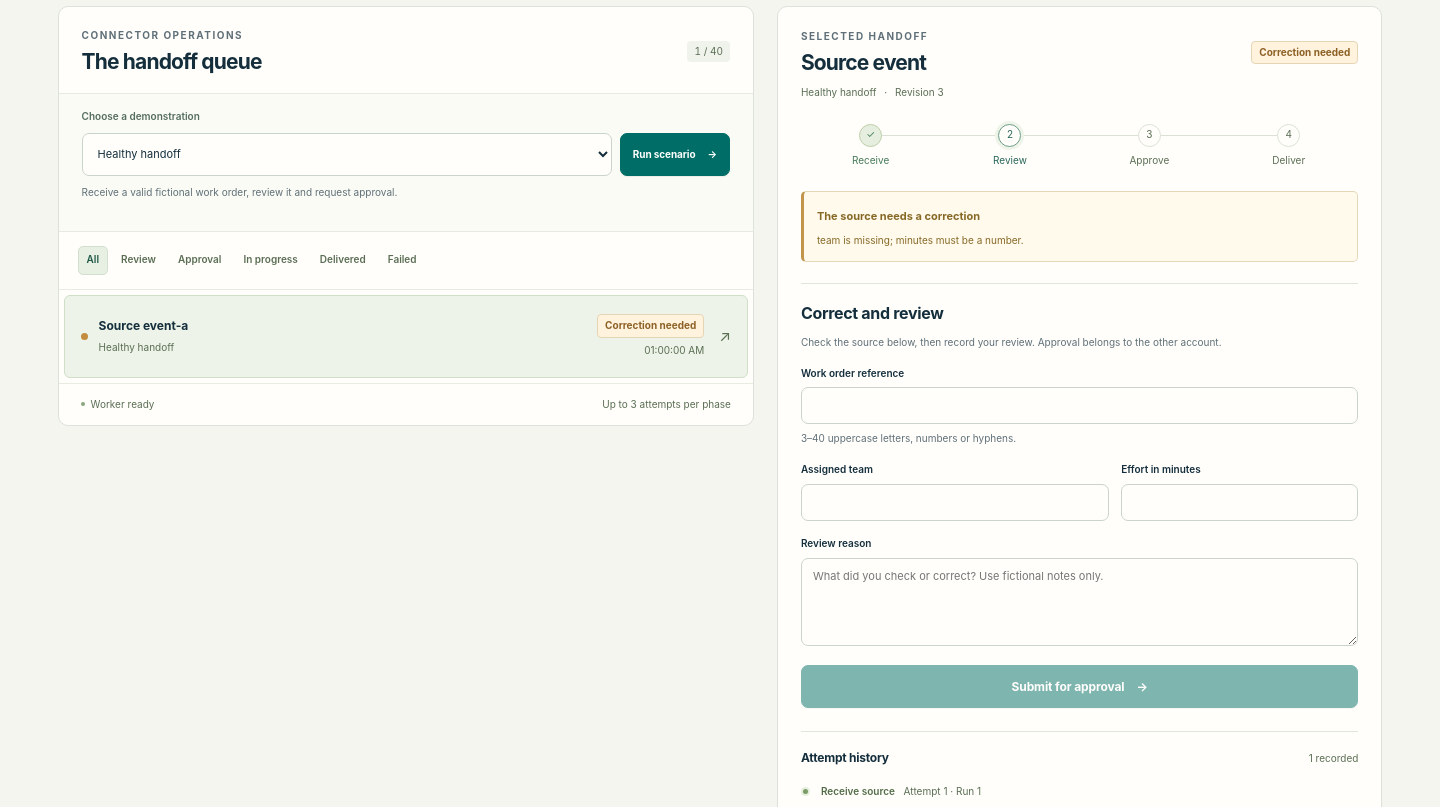
Test: Team edition commands and evidence › submits an explicit review reason with the selected revision and corrected payload
This screenshot has width=1440, height=807.
(page scrolled)
Expected: the text "The source needs a correction" is shown, [817,209,980,223]
Expected: the button "Submit for approval →" is disabled, [801,666,1358,708]
Type "WO-101" into the field labelled "Work order reference".
click(1080, 406); type("WO-101")  # box [801,387,1358,424]
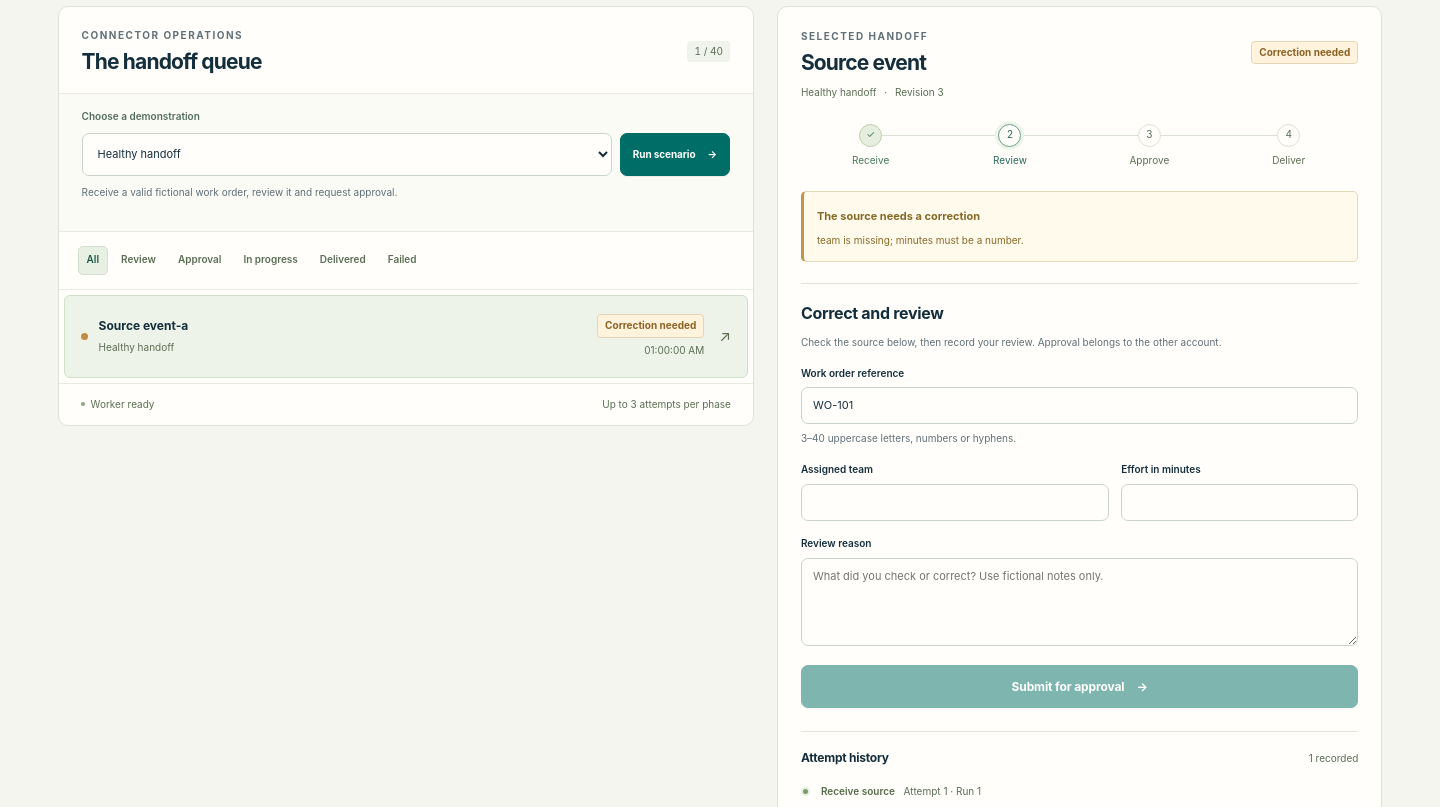
Type "Fictional repairs" into the field labelled "Assigned team".
click(955, 503); type("Fictional repairs")  # box [801,484,1109,521]
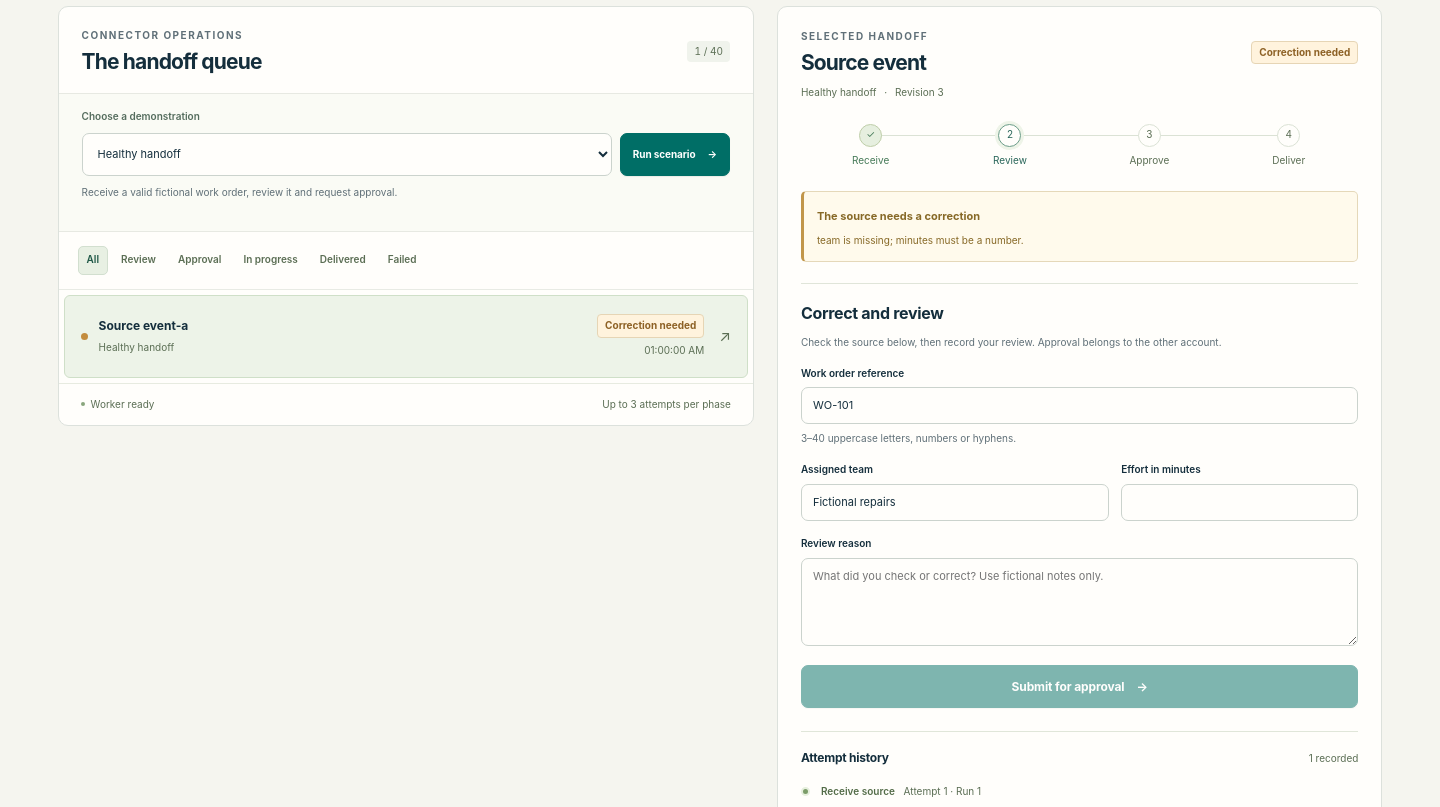
Type "45" into the number field labelled "Effort in minutes".
click(1240, 503); type("45")  # box [1121,484,1358,521]
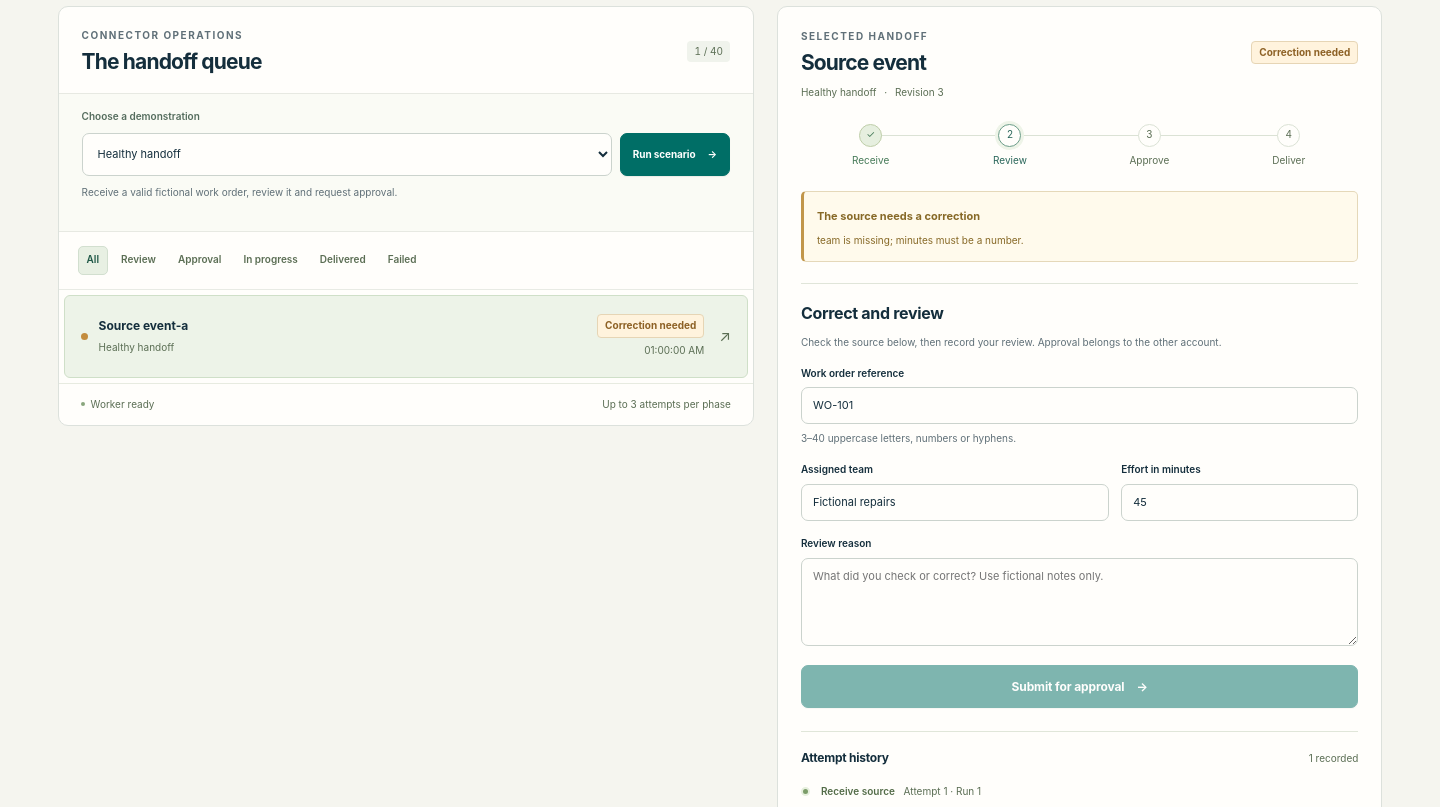
Type "Mapped the fictional team and duration fields." into the text box labelled "Review reason".
click(1080, 602); type("Mapped the fictional team and duration fields.")  # box [801,558,1358,646]
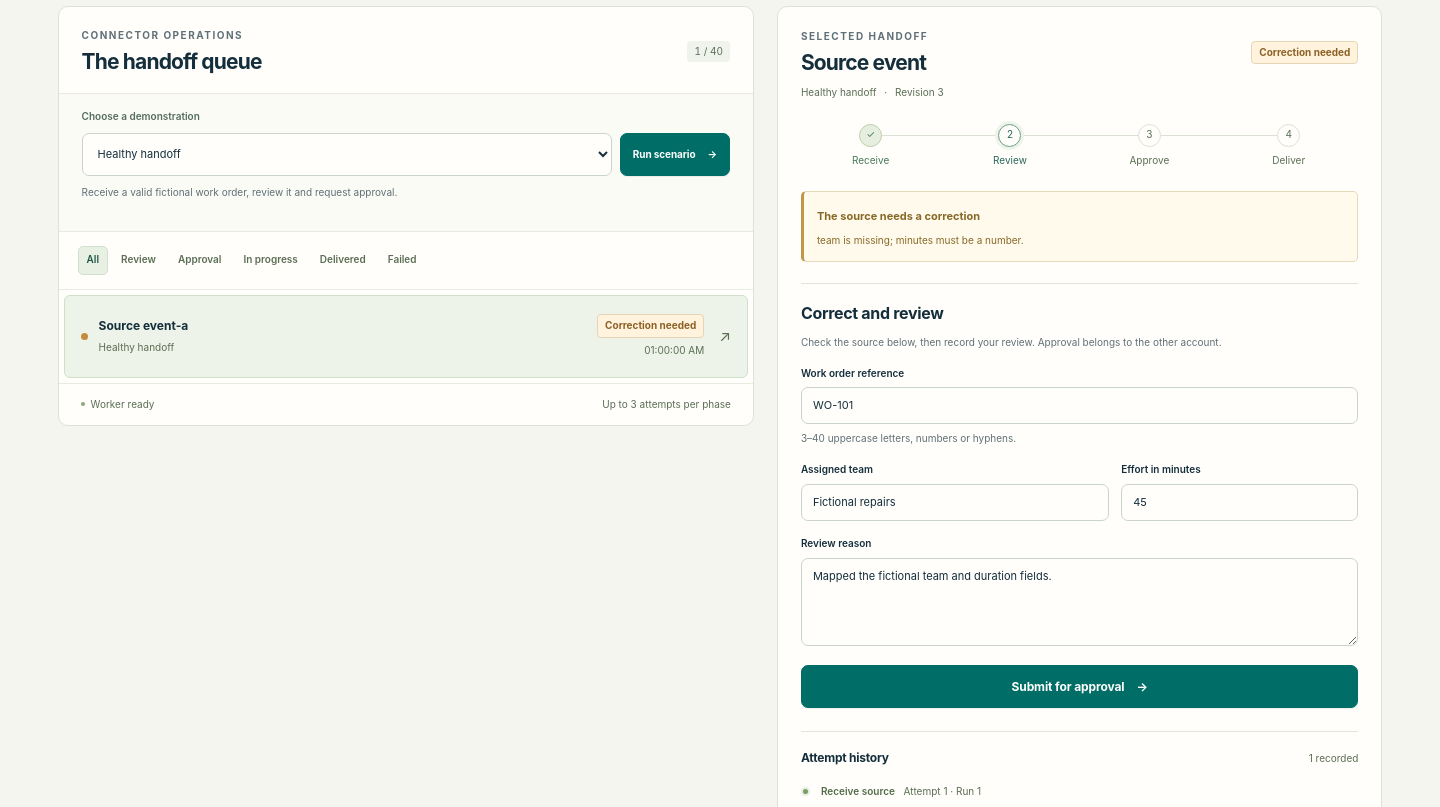
Click the button "Submit for approval →".
click(1080, 687)  # box [801,666,1358,708]
(page scrolled)
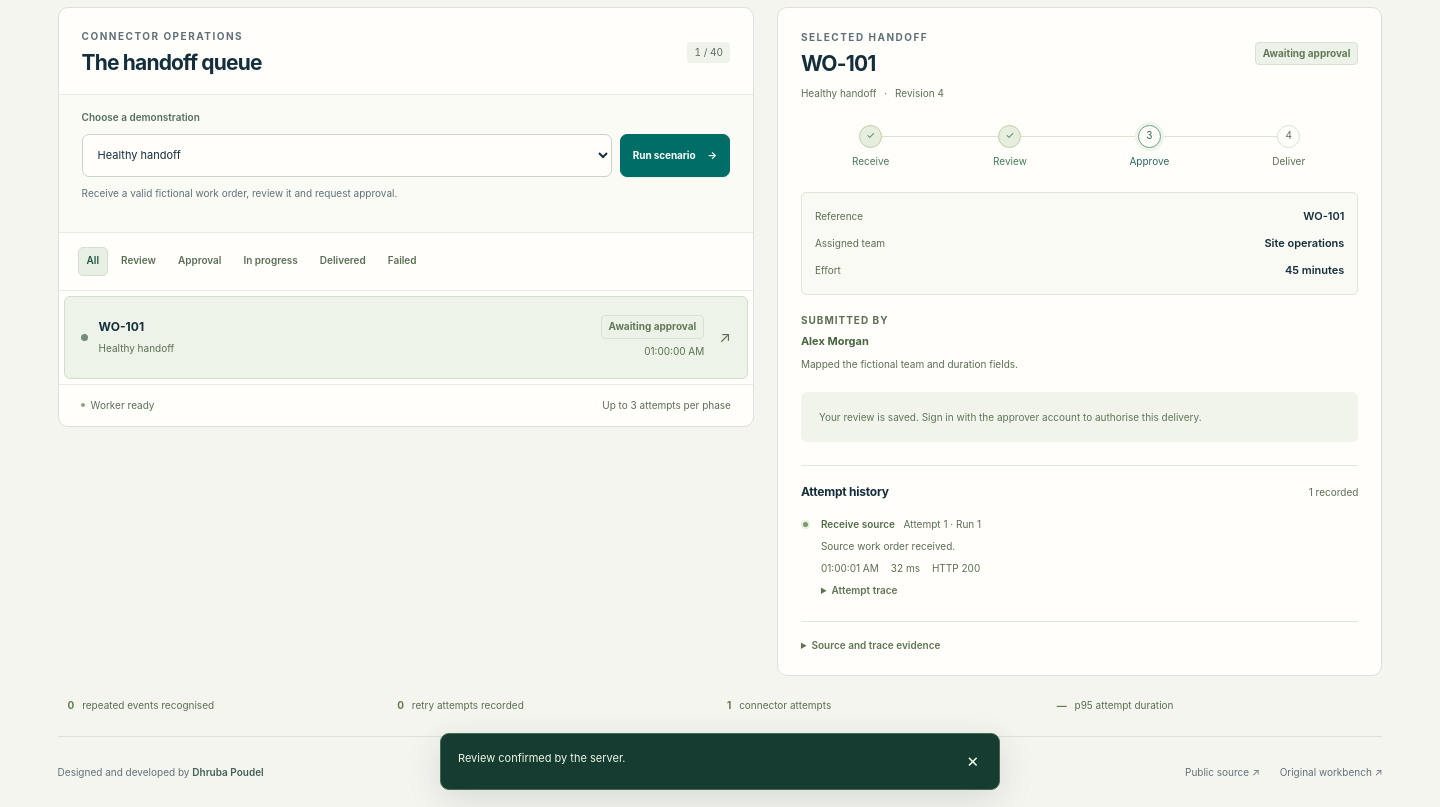
Expected: the text "Your review is saved" is shown, [819,411,1202,423]
